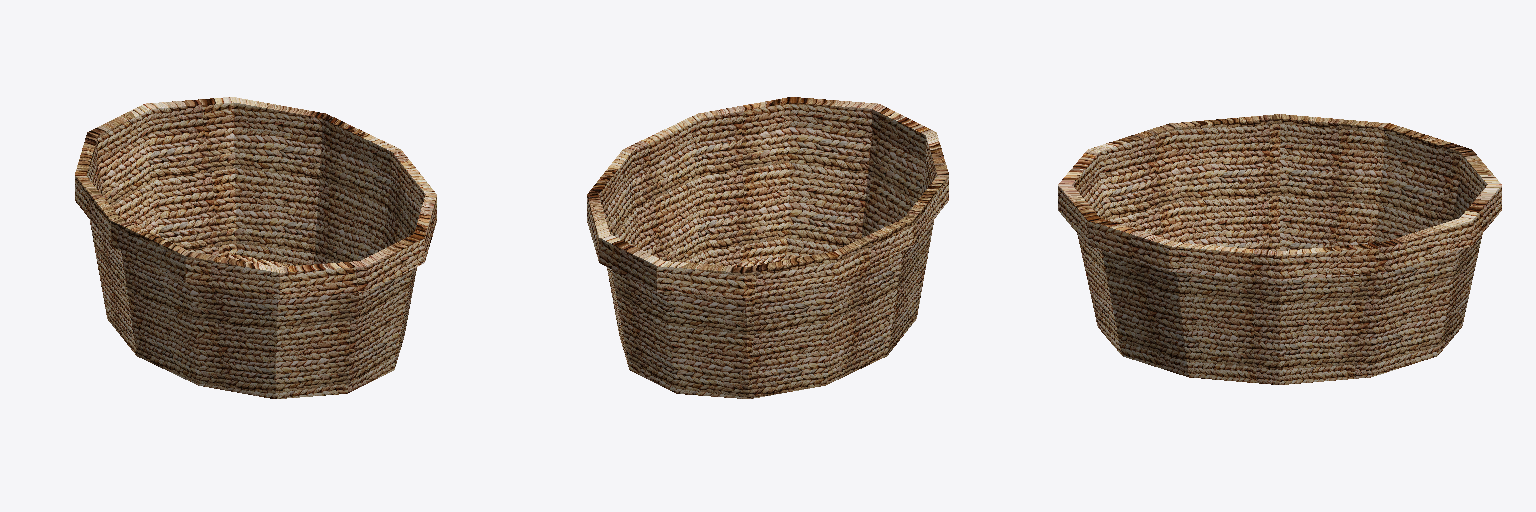
3 renders of one model, left to right at view 1: azimuth 30°, elevation 25°; view 2: azimuth 150°, elevation 25°; view 3: azimuth 270°, elevation 25°, orthographic.
Parts seen in each view (by area): view 1: Cylinder; view 2: Cylinder; view 3: Cylinder.
Part boxes in pixels (left/top/right/bottom): Cylinder: left=75, top=97, right=436, bottom=398; Cylinder: left=587, top=97, right=948, bottom=398; Cylinder: left=1058, top=114, right=1501, bottom=384.
Bounding box in the file's own units: 0.4274 × 0.2 × 0.5659.
1 materials, 1 textured.